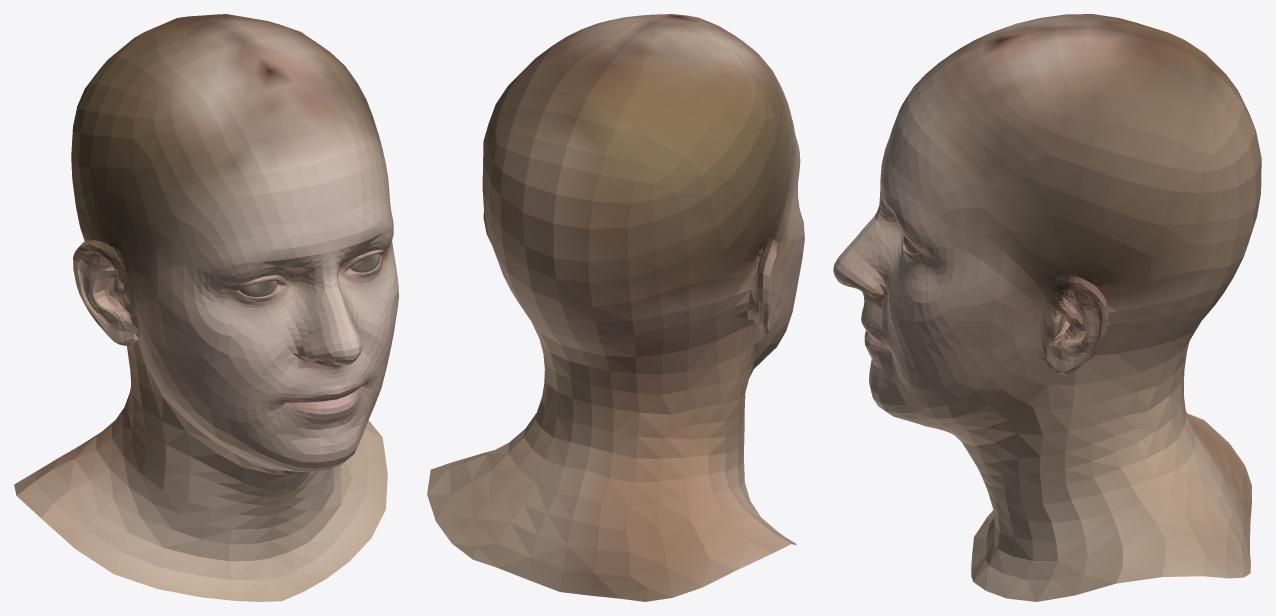
File: flame2023_mask_baseline.glb
3 renders of one model, left to right at view 1: azimuth 30°, elevation 25°; view 2: azimuth 150°, elevation 25°; view 3: azimuth 270°, elevation 25°, orthographic. The views are drawn at different scales.
Parts seen in each view (by area): view 1: world; view 2: world; view 3: world.
Part boxes in pixels (box(x1,y1,x2,y2)): world: box(14, 14, 398, 601); world: box(427, 14, 804, 601); world: box(833, 14, 1261, 601).
Bounding box in the file's own units: 0.2176 × 0.3194 × 0.2283.
